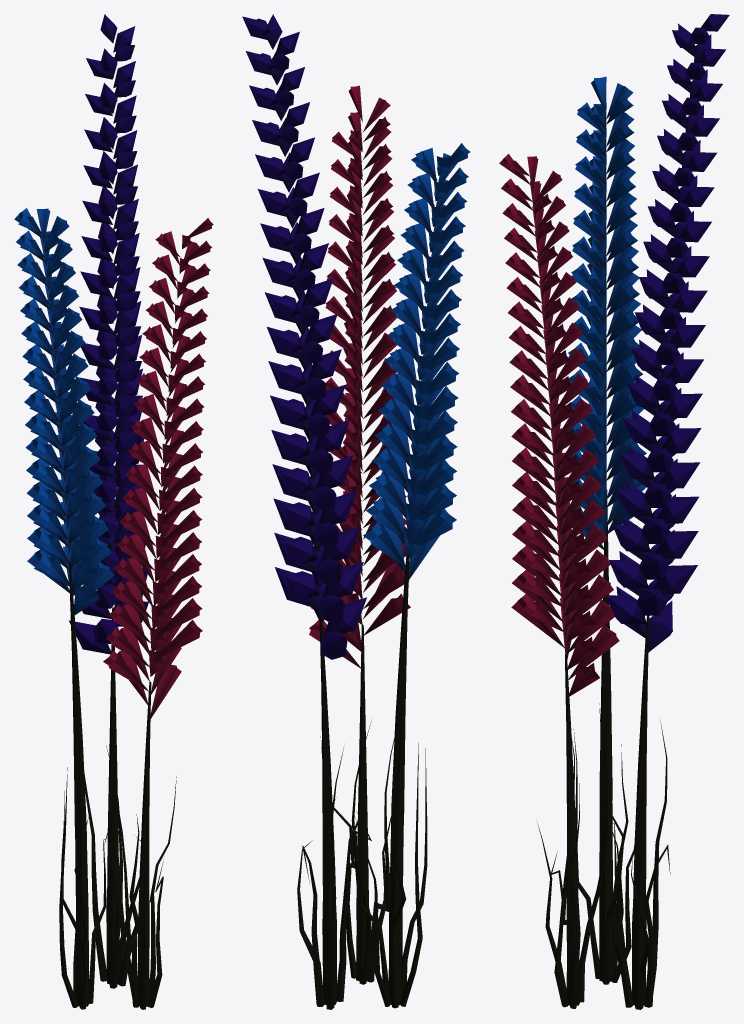
File: Plant-6.fbx
3 views of the same model, side by side, from view 1: azimuth 30°, elevation 25°; view 2: azimuth 150°, elevation 25°; view 3: azimuth 270°, elevation 25° (orthographic). The views are drawn at different scales.
Visible parts, largest first — view 1: file6; view 2: file6; view 3: file6.
Part boxes in pixels (x1,y1,x2,y2): file6: (14, 14, 213, 1009); file6: (242, 14, 470, 1009); file6: (499, 14, 729, 1009).
Bounding box in the file's own units: 0.2696 × 1.47 × 0.3052.
